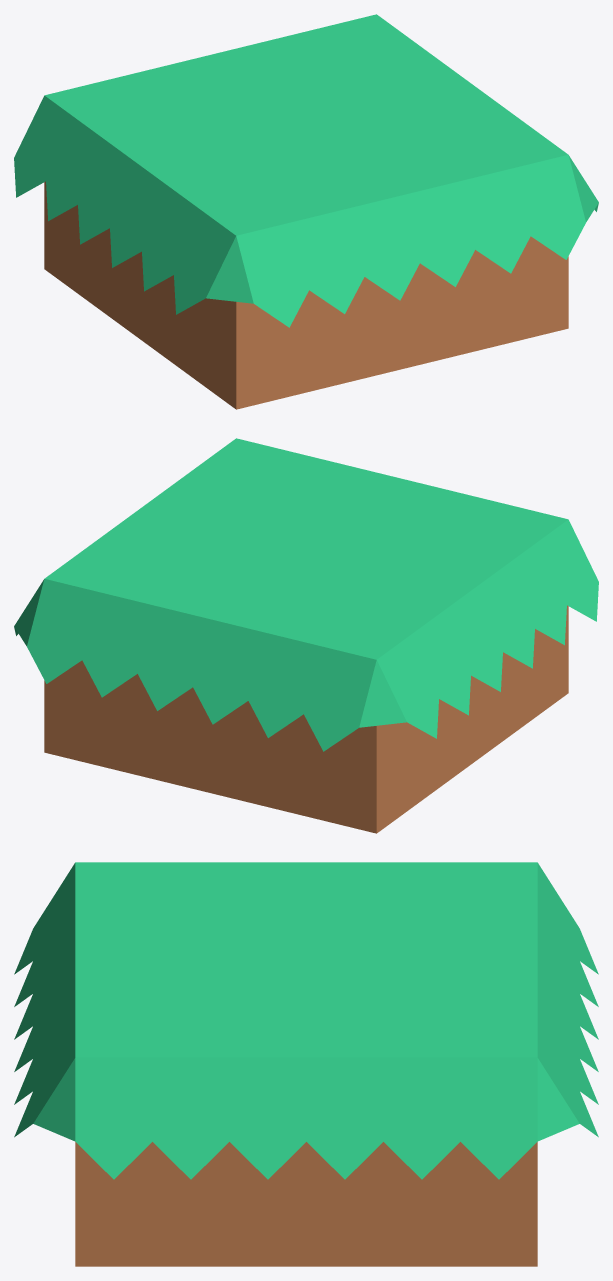
Rendered from blockHalf.glb.
The picture shows the model from 3 angles, top to bottom: view 1: azimuth 30°, elevation 25°; view 2: azimuth 150°, elevation 25°; view 3: azimuth 270°, elevation 25°; orthographic projection. The views are drawn at different scales.
Visible parts, largest first — view 1: blockHalf; view 2: blockHalf; view 3: blockHalf.
Boxes of the visible parts, x1,y1,x2,y2 form: blockHalf: (14,14,598,409); blockHalf: (14,438,598,833); blockHalf: (14,862,598,1266).
Bounding box in the file's own units: 1.27 × 0.5 × 1.27.
